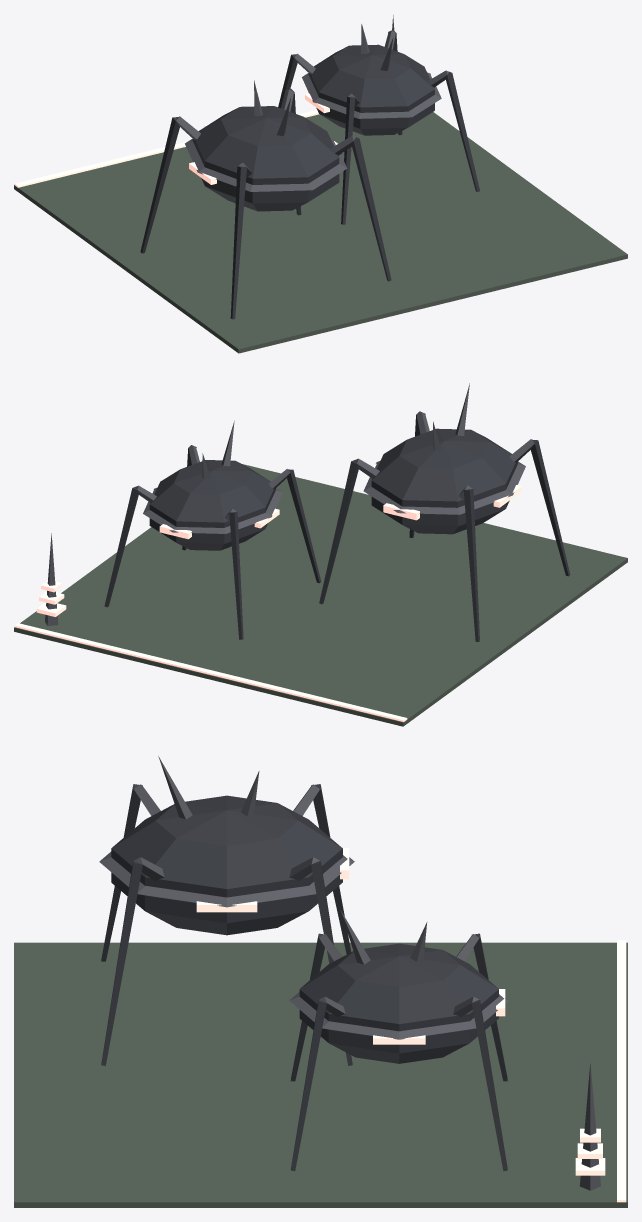
File: zone_low_5_t3.glb
The picture shows the model from 3 angles, top to bottom: view 1: azimuth 30°, elevation 25°; view 2: azimuth 150°, elevation 25°; view 3: azimuth 270°, elevation 25°; orthographic projection. The views are drawn at different scales.
Visible parts, largest first — view 1: zone_low_5_t3, detail; view 2: zone_low_5_t3, detail; view 3: zone_low_5_t3, detail.
Part boxes in pixels (x1,y1,x2,y2): zone_low_5_t3: [14, 30, 627, 353]; detail: [14, 15, 438, 187]; zone_low_5_t3: [14, 411, 627, 726]; detail: [14, 383, 521, 721]; zone_low_5_t3: [14, 784, 627, 1207]; detail: [158, 756, 626, 1202].
Size of the model in its own units: 19.6 by 9.28 by 19.6.
